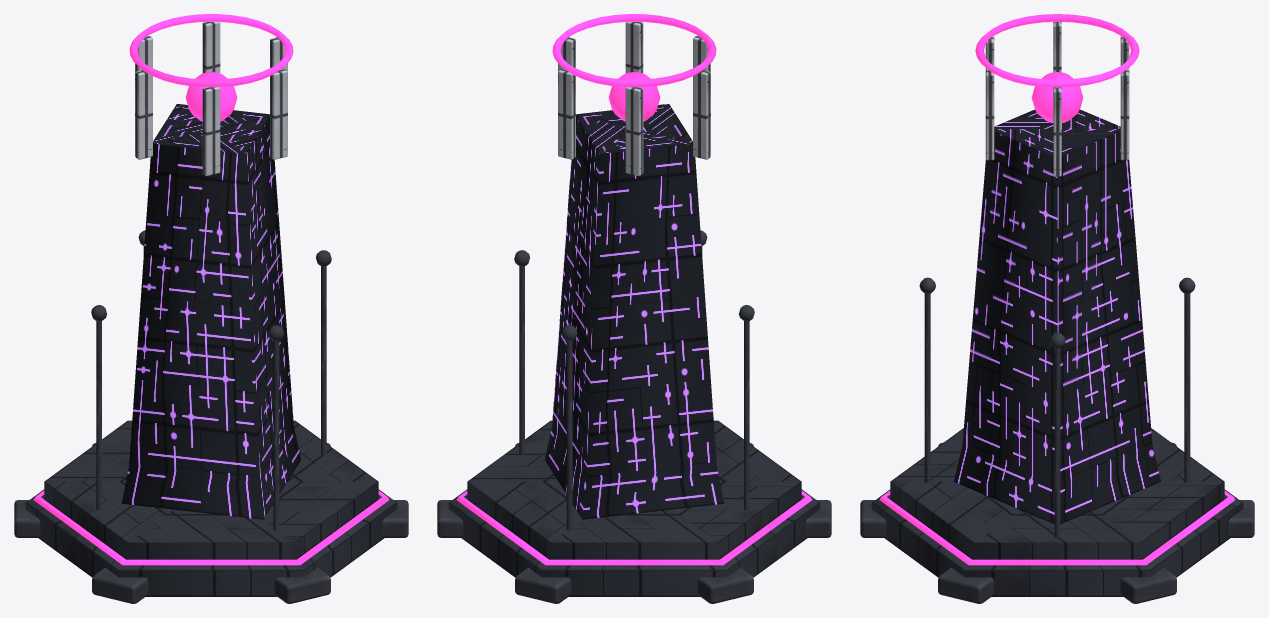
Rendered from sf_seal.glb.
The picture shows the model from 3 angles, left to right: view 1: azimuth 30°, elevation 25°; view 2: azimuth 150°, elevation 25°; view 3: azimuth 270°, elevation 25°; orthographic projection.
Parts seen in each view (by area): view 1: Base, Arr, Turret; view 2: Base, Arr, Turret; view 3: Base, Arr, Turret.
Boxes of the visible parts, x1,y1,x2,y2 form: Base: [14, 104, 408, 603]; Arr: [129, 14, 293, 175]; Turret: [185, 72, 237, 121]; Base: [437, 104, 831, 603]; Arr: [552, 14, 716, 175]; Turret: [608, 72, 660, 121]; Base: [860, 109, 1254, 603]; Arr: [975, 14, 1139, 176]; Turret: [1031, 72, 1083, 122].
Size of the model in its own units: 0.8425 by 1.23 by 0.9128.
Materials: 5 (5 with a texture image).
